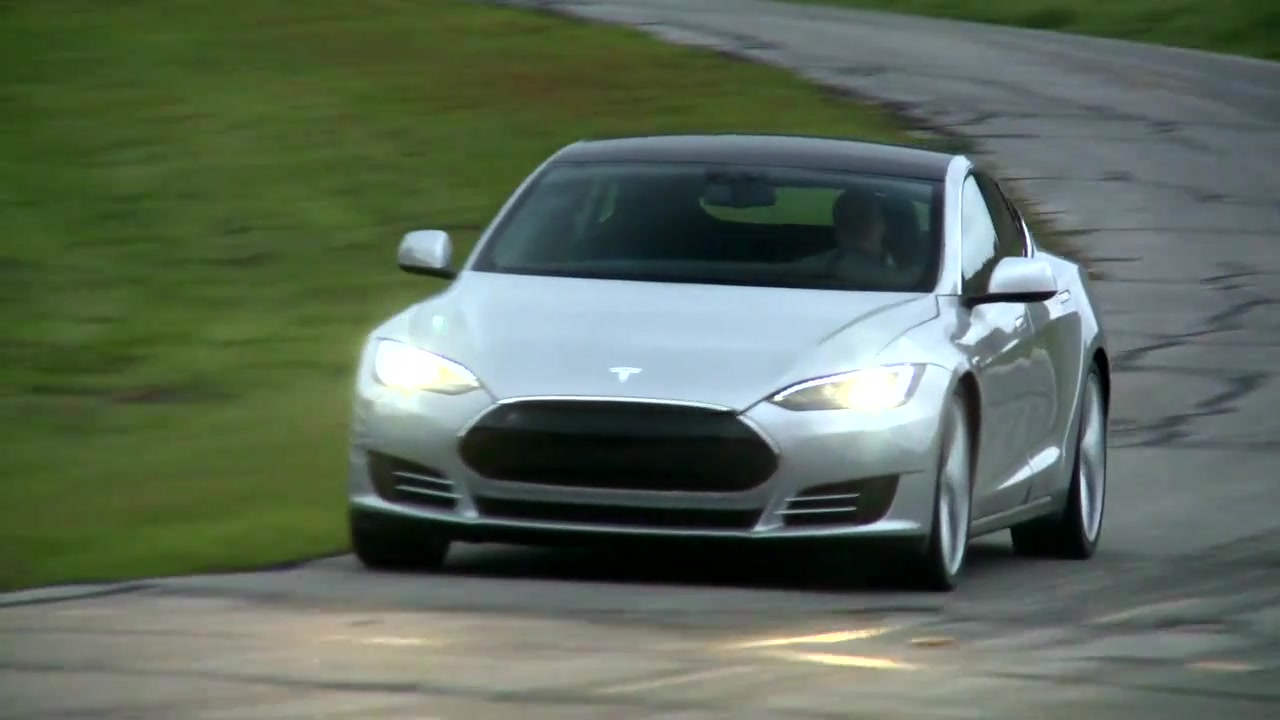car: (344, 126, 1113, 592)
